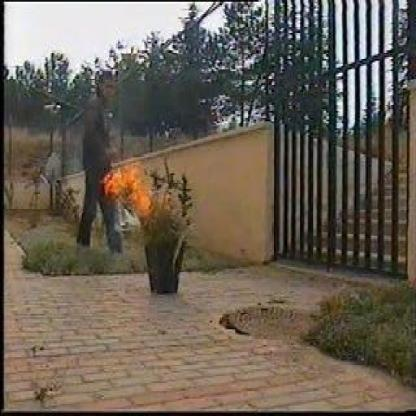-: (116, 207, 138, 232)
foggia-v2-map80-epoch100 - v1 4323: (103, 158, 153, 209)
